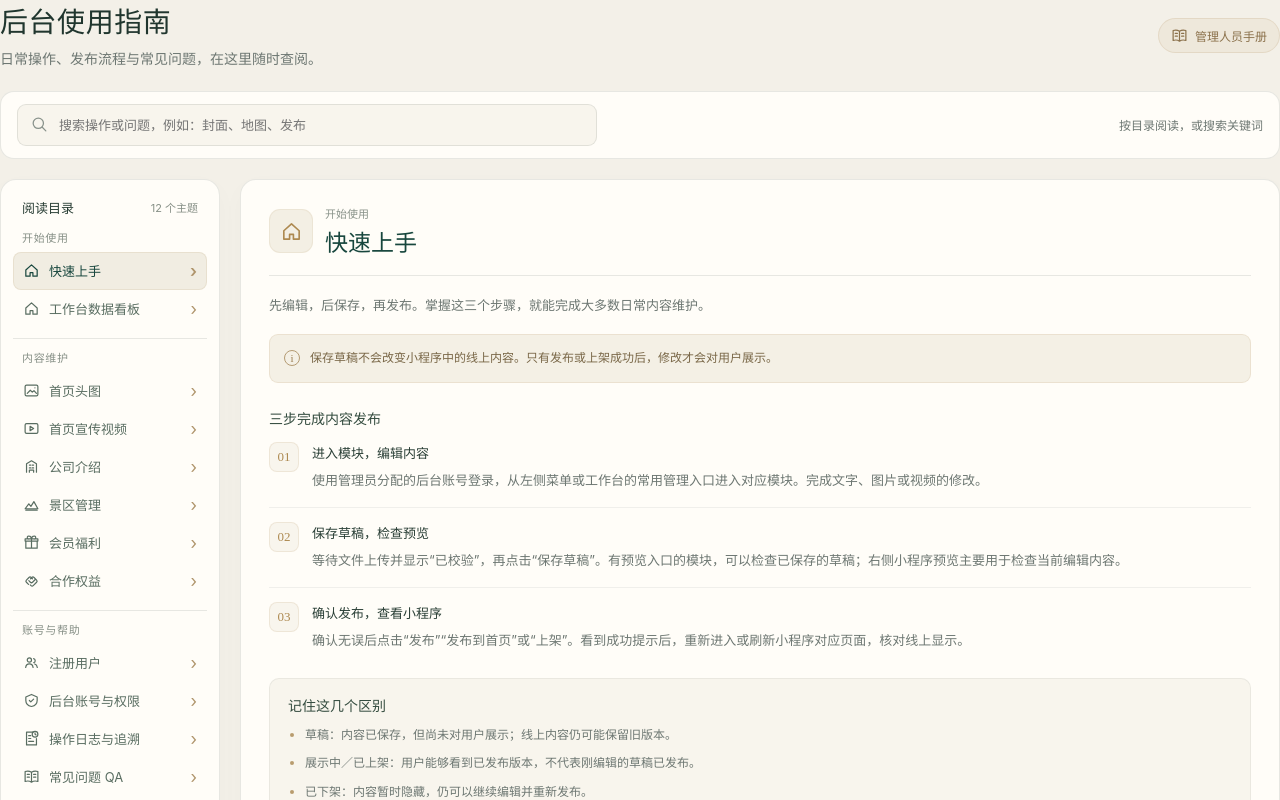
Test case: GuidePage › keeps FAQ entries visible when searching for lowercase qa
Type " qa " into the search field named "搜索使用指南".
click(322, 125); type(" qa ")  # box left=59, top=105, right=584, bottom=145
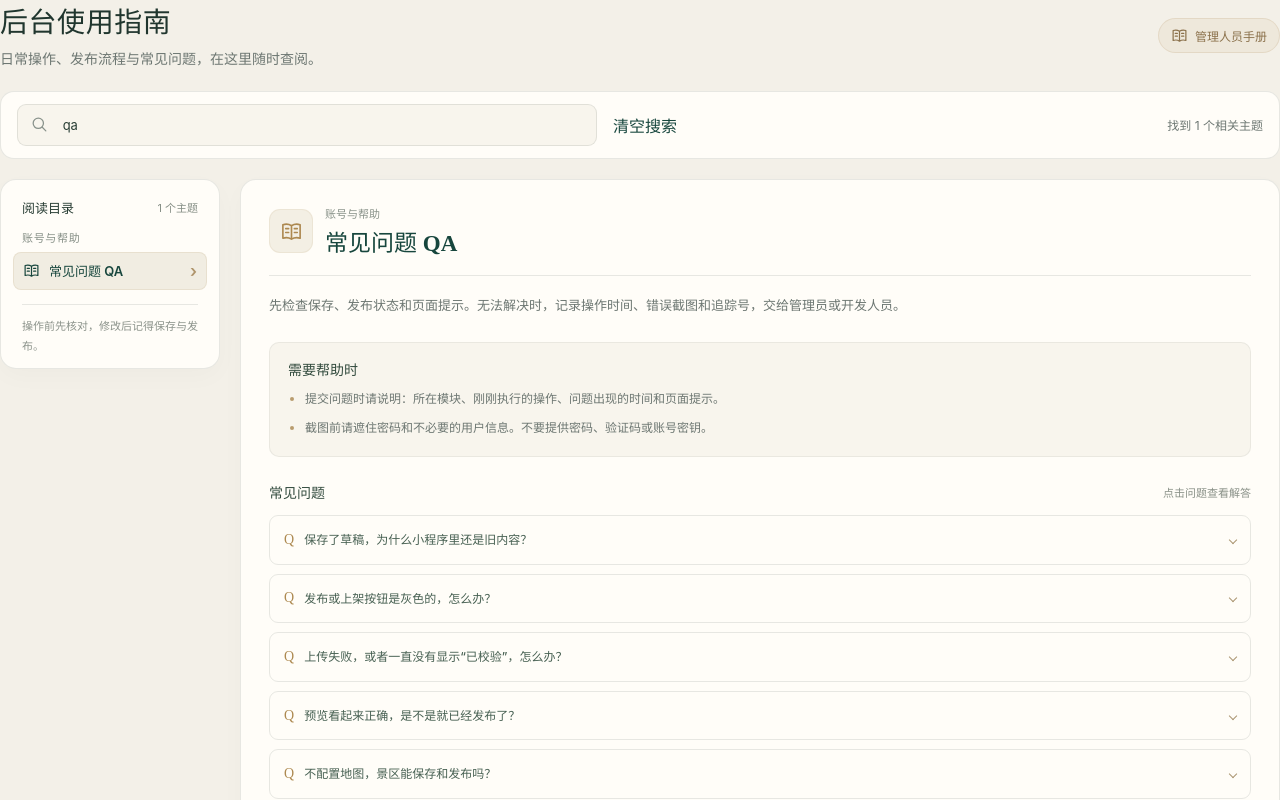
Now the heading "常见问题 QA" is shown, box left=325, top=224, right=457, bottom=258
Now the text "保存了草稿，为什么小程序里还是旧内容？" is shown, box left=304, top=529, right=532, bottom=551
Now the text "不配置地图，景区能保存和发布吗？" is shown, box left=304, top=764, right=496, bottom=785
